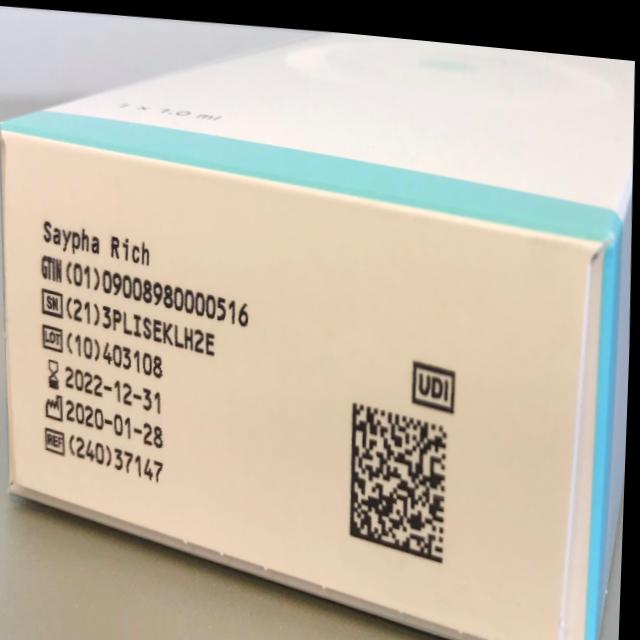datamatrix: (345, 390, 458, 566)
